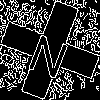N: (25, 25, 75, 80)
